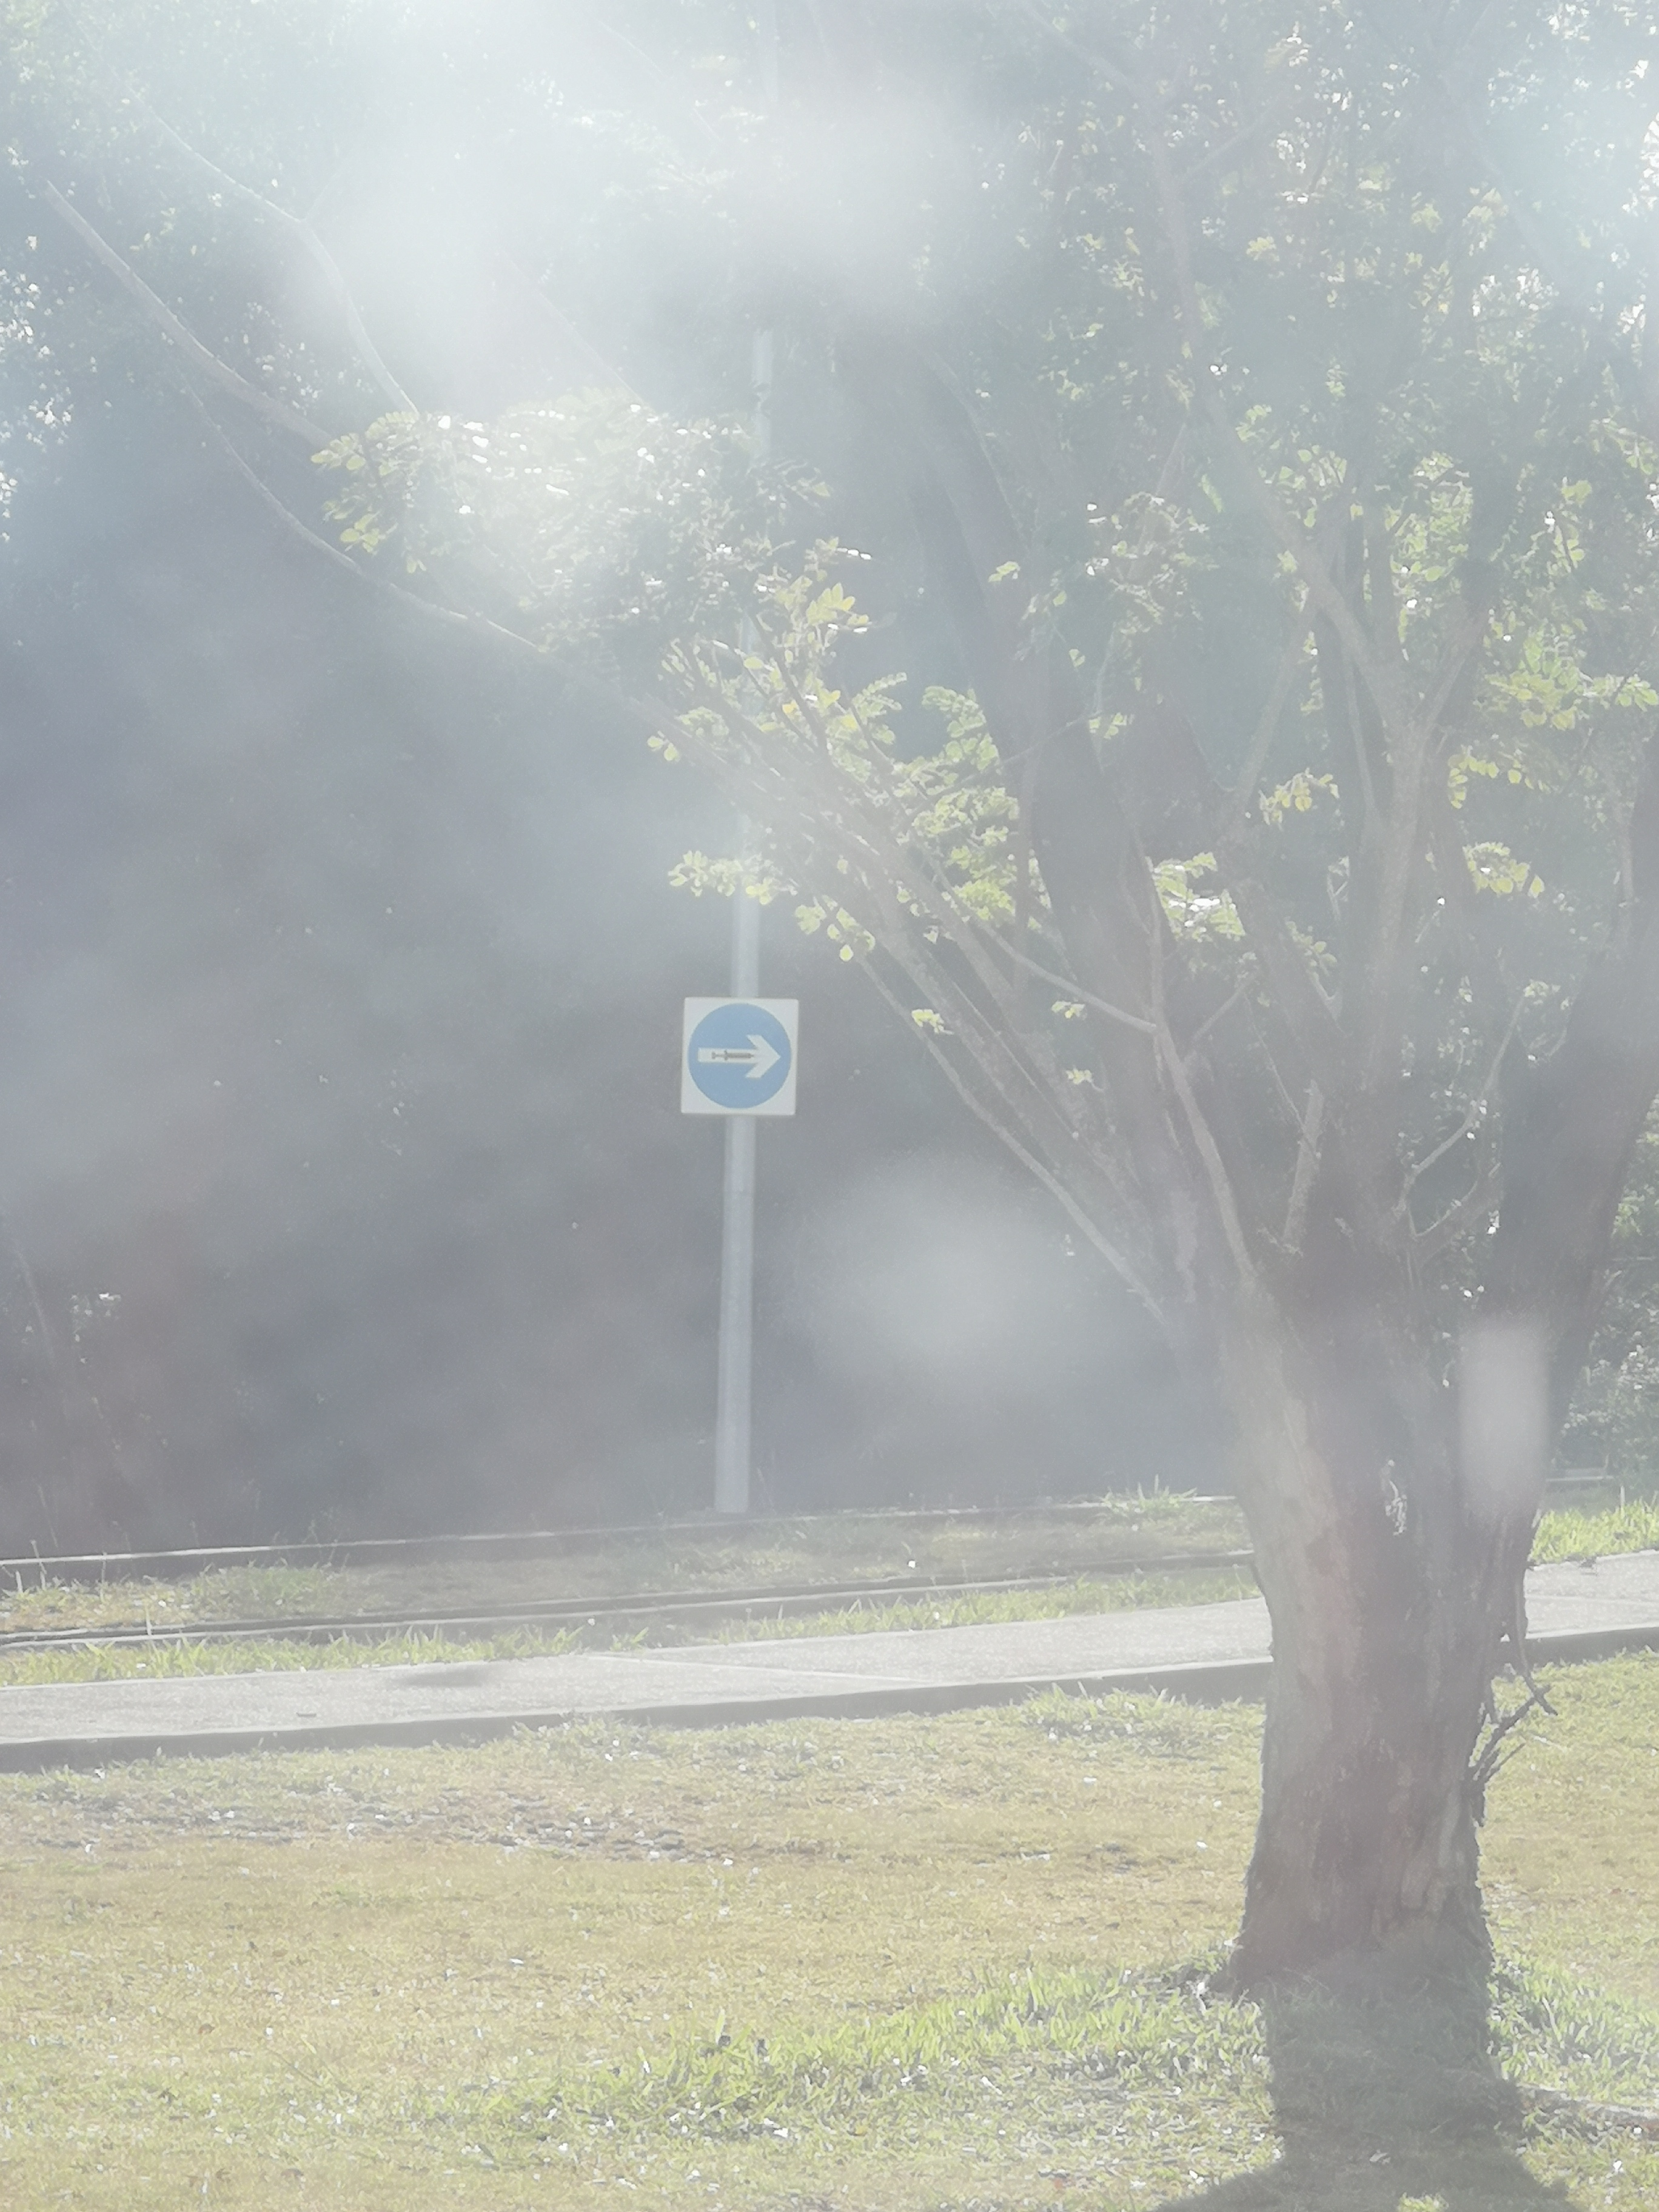turn right: (683, 981, 803, 1132)
